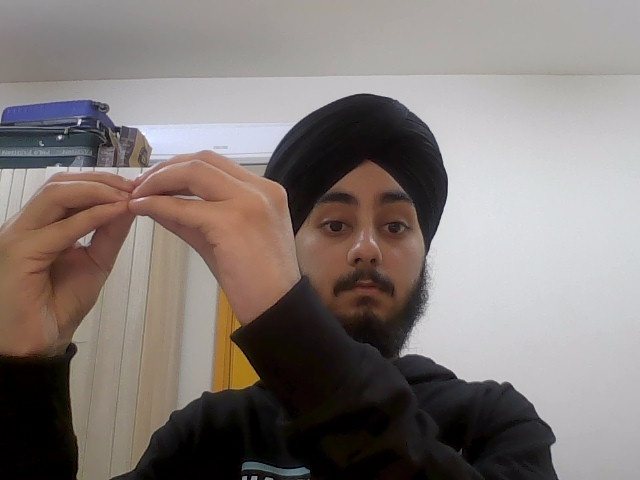More: (1, 147, 301, 361)
